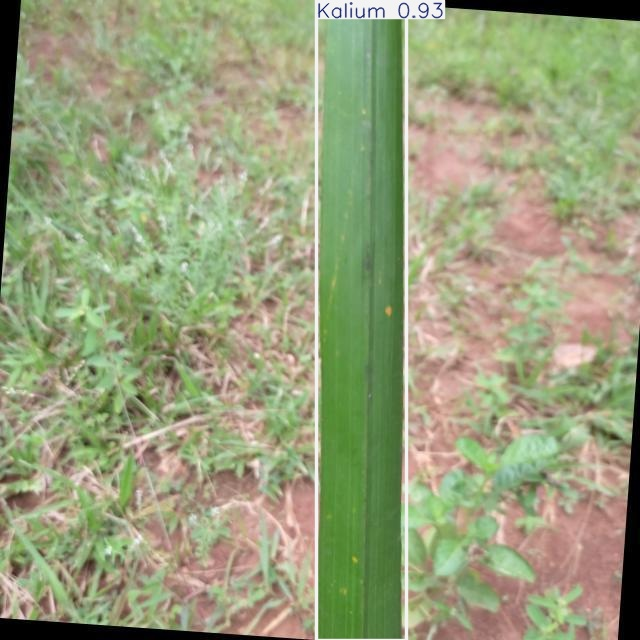Kalium: (317, 0, 406, 640)
